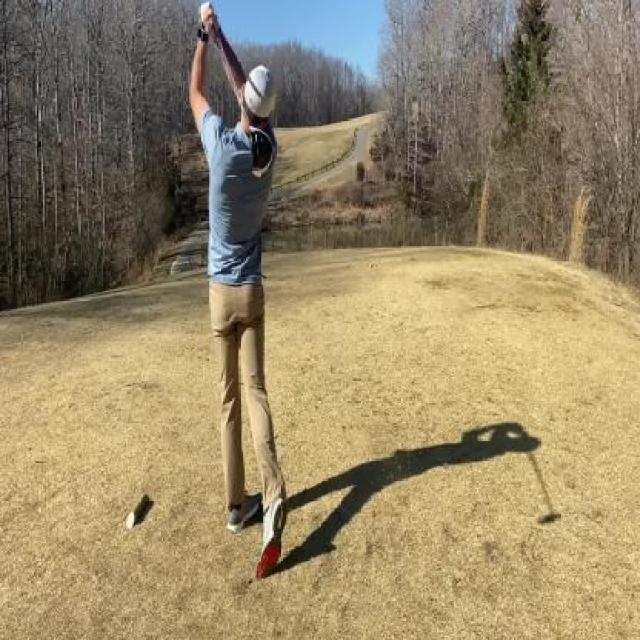club head: (246, 116, 274, 179)
